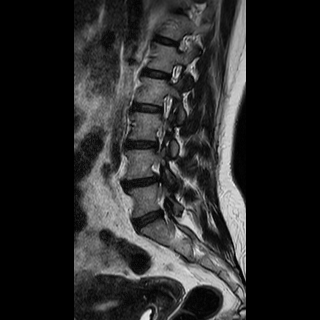RFS0: (152, 88, 178, 125), (161, 58, 189, 89)
